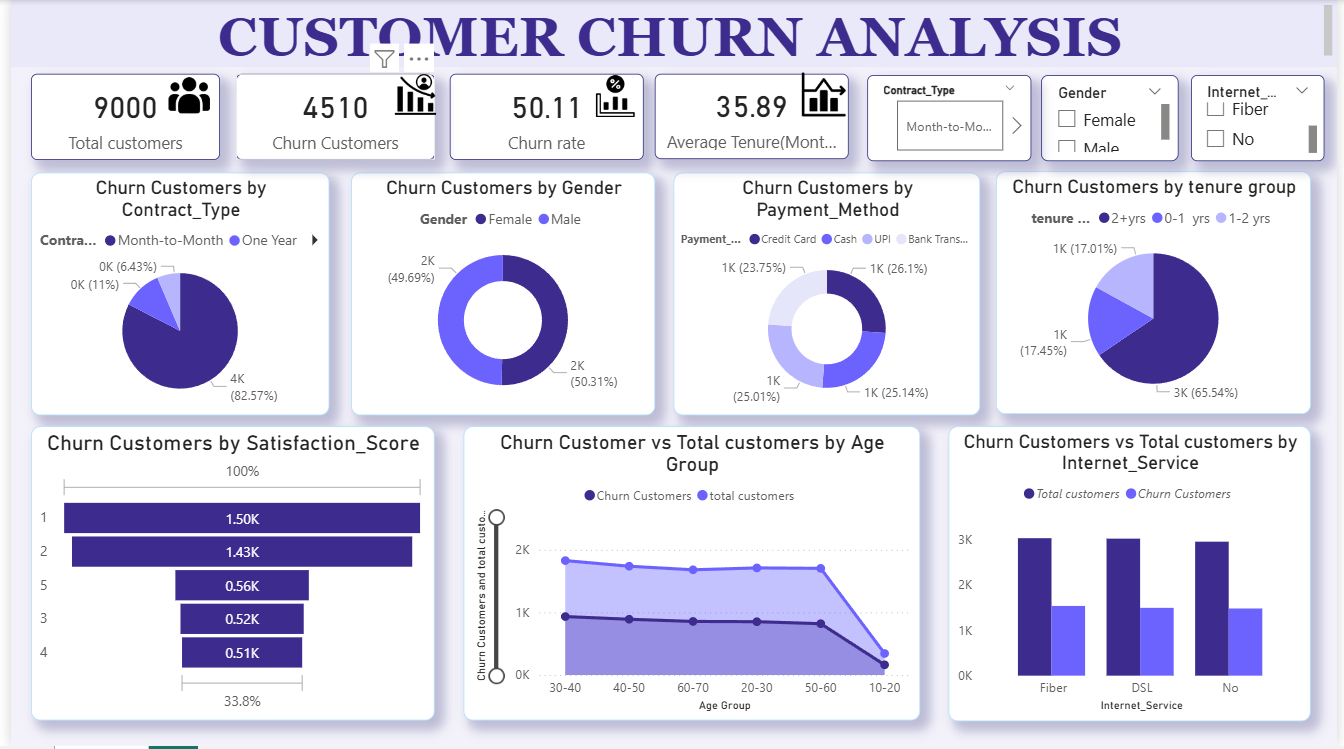

Layout of this report page (visuals, bound fields, positions):
{"tool":"powerbi","page":{"name":"Page 1","canvas":[1280,720],"ordinal":0},"visuals":[{"type":"textbox","box":[0,0,1280.3,64.5],"z":0},{"type":"card","fields":{"Values":["Copy_of_Telco_customer_churn.total customers"]},"box":[19.3,71.2,182.2,83.2],"z":1000},{"type":"card","fields":{"Values":["Copy_of_Telco_customer_churn.churn rate"]},"box":[423.5,71.2,187,83.2],"z":2000},{"type":"donutChart","fields":{"Category":["Copy_of_Telco_customer_churn.Gender"],"Y":["Copy_of_Telco_customer_churn.Churn Customers"]},"box":[328,166,293.7,234.6],"z":3000},{"type":"pieChart","fields":{"Category":["Copy_of_Telco_customer_churn.Contract_Type"],"Y":["Copy_of_Telco_customer_churn.Churn Customers"]},"box":[19.2,166,288.2,234.6],"z":4000},{"type":"donutChart","fields":{"Y":["Copy_of_Telco_customer_churn.Churn Customers"],"Category":["Copy_of_Telco_customer_churn.Payment_Method"]},"box":[639.5,166,296.4,234.6],"z":5000},{"type":"pieChart","fields":{"Y":["Copy_of_Telco_customer_churn.Churn Customers"],"Category":["Copy_of_Telco_customer_churn.tenure group"]},"box":[950.7,165.3,304,234],"z":6000},{"type":"funnel","fields":{"Y":["Copy_of_Telco_customer_churn.Churn Customers"],"Category":["Copy_of_Telco_customer_churn.Satisfaction_Score"]},"box":[19.2,411.7,389.7,284],"z":7000},{"type":"areaChart","title":"Churn Customer vs Total customers by Age Group","fields":{"Category":["Copy_of_Telco_customer_churn.Age Group"],"Y":["Copy_of_Telco_customer_churn.Churn Customers","Copy_of_Telco_customer_churn.total customers"]},"box":[436.4,411.7,440.5,284],"z":8000},{"type":"clusteredColumnChart","title":" Churn Customers vs Total customers by Internet_Service","fields":{"Category":["Copy_of_Telco_customer_churn.Internet_Service"],"Y":["Copy_of_Telco_customer_churn.total customers","Copy_of_Telco_customer_churn.Churn Customers"]},"box":[904.8,411.4,349.9,284.7],"z":9000},{"type":"card","fields":{"Values":["Copy_of_Telco_customer_churn.Churn Customers"]},"box":[217.2,71.2,191.8,83.2],"z":10000},{"type":"card","fields":{"Values":["Avg(Copy_of_Telco_customer_churn.Tenure_Months)"]},"box":[621.3,71.2,187,82],"z":11000},{"type":"slicer","fields":{"Values":["Copy_of_Telco_customer_churn.Gender"]},"box":[994.1,72.4,132.7,83.2],"z":12000},{"type":"slicer","fields":{"Values":["Copy_of_Telco_customer_churn.Internet_Service"]},"box":[1138.9,72.4,129.1,83.2],"z":13000},{"type":"slicer","fields":{"Values":["Copy_of_Telco_customer_churn.Contract_Type"]},"box":[826.4,72.4,158,83.2],"z":14000},{"type":"image","box":[152,71.2,39.8,41],"z":14001},{"type":"image","box":[357.1,70,66.4,42.2],"z":14002},{"type":"image","box":[545.3,71.2,76,43.4],"z":14003},{"type":"image","box":[760.1,70,48.3,42.2],"z":14004}]}

Visuals, with their boxes in screenshot pixels (x1, y1, x2, y2), scaled from the page's 1280x720 canvas onto the 1344x749 screenshot:
textbox: <box>0,0,1343,67</box>
card - Copy_of_Telco_customer_churn.total customers: <box>20,74,212,161</box>
card - Copy_of_Telco_customer_churn.churn rate: <box>445,74,641,161</box>
donutChart - Copy_of_Telco_customer_churn.Gender x Copy_of_Telco_customer_churn.Churn Customers: <box>344,173,653,417</box>
pieChart - Copy_of_Telco_customer_churn.Contract_Type x Copy_of_Telco_customer_churn.Churn Customers: <box>20,173,323,417</box>
donutChart - Copy_of_Telco_customer_churn.Churn Customers x Copy_of_Telco_customer_churn.Payment_Method: <box>671,173,983,417</box>
pieChart - Copy_of_Telco_customer_churn.Churn Customers x Copy_of_Telco_customer_churn.tenure group: <box>998,172,1317,415</box>
funnel - Copy_of_Telco_customer_churn.Churn Customers x Copy_of_Telco_customer_churn.Satisfaction_Score: <box>20,428,429,724</box>
"Churn Customer vs Total customers by Age Group" areaChart: <box>458,428,921,724</box>
" Churn Customers vs Total customers by Internet_Service" clusteredColumnChart: <box>950,428,1317,724</box>
card - Copy_of_Telco_customer_churn.Churn Customers: <box>228,74,429,161</box>
card - Avg(Copy_of_Telco_customer_churn.Tenure_Months): <box>652,74,849,159</box>
slicer - Copy_of_Telco_customer_churn.Gender: <box>1044,75,1183,162</box>
slicer - Copy_of_Telco_customer_churn.Internet_Service: <box>1196,75,1331,162</box>
slicer - Copy_of_Telco_customer_churn.Contract_Type: <box>868,75,1034,162</box>
image: <box>160,74,201,117</box>
image: <box>375,73,445,117</box>
image: <box>573,74,652,119</box>
image: <box>798,73,849,117</box>
